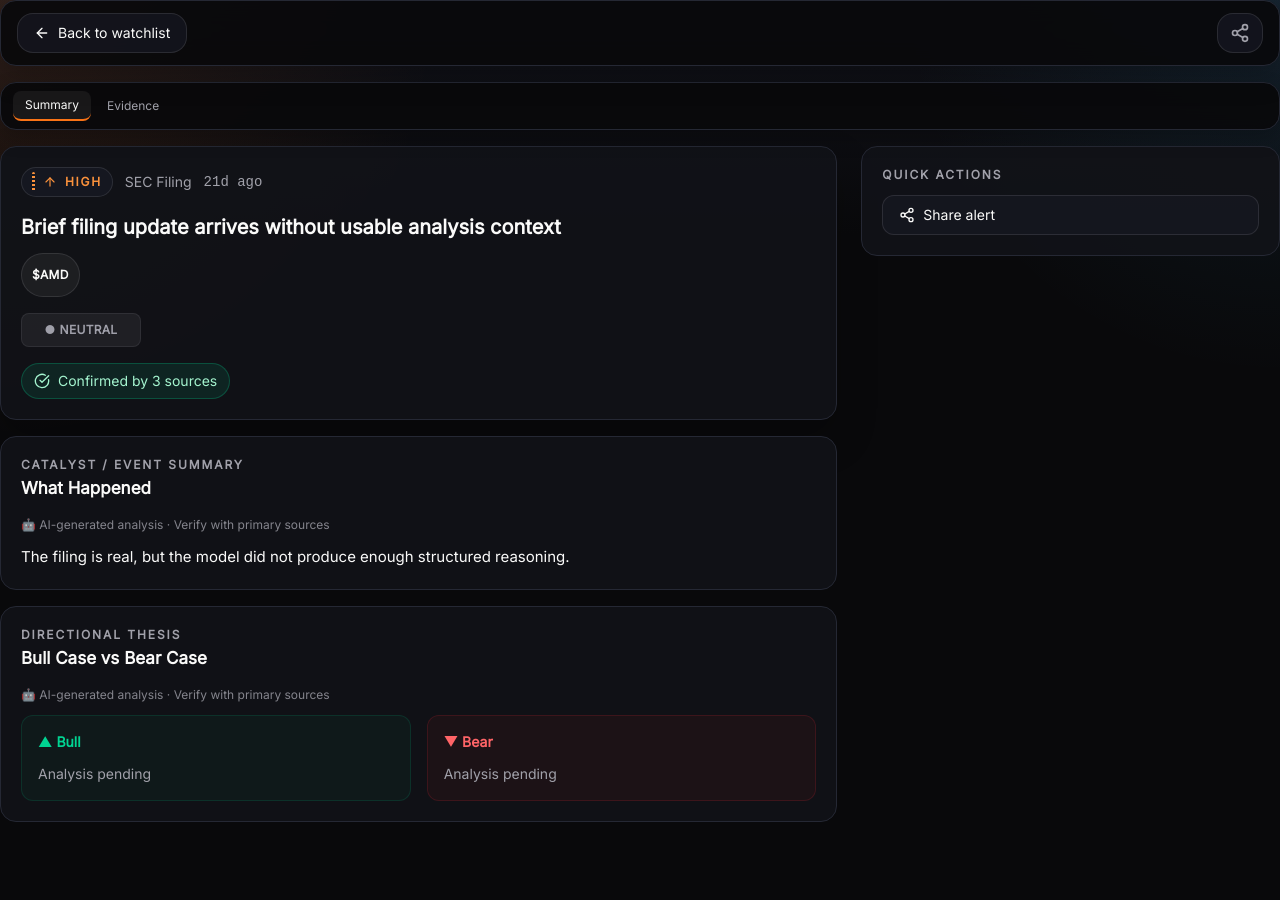
it: EventDetail page › shows evidence fallback copy when source data is unavailable
Click the button "Evidence": (133, 106) [95, 91, 171, 121]
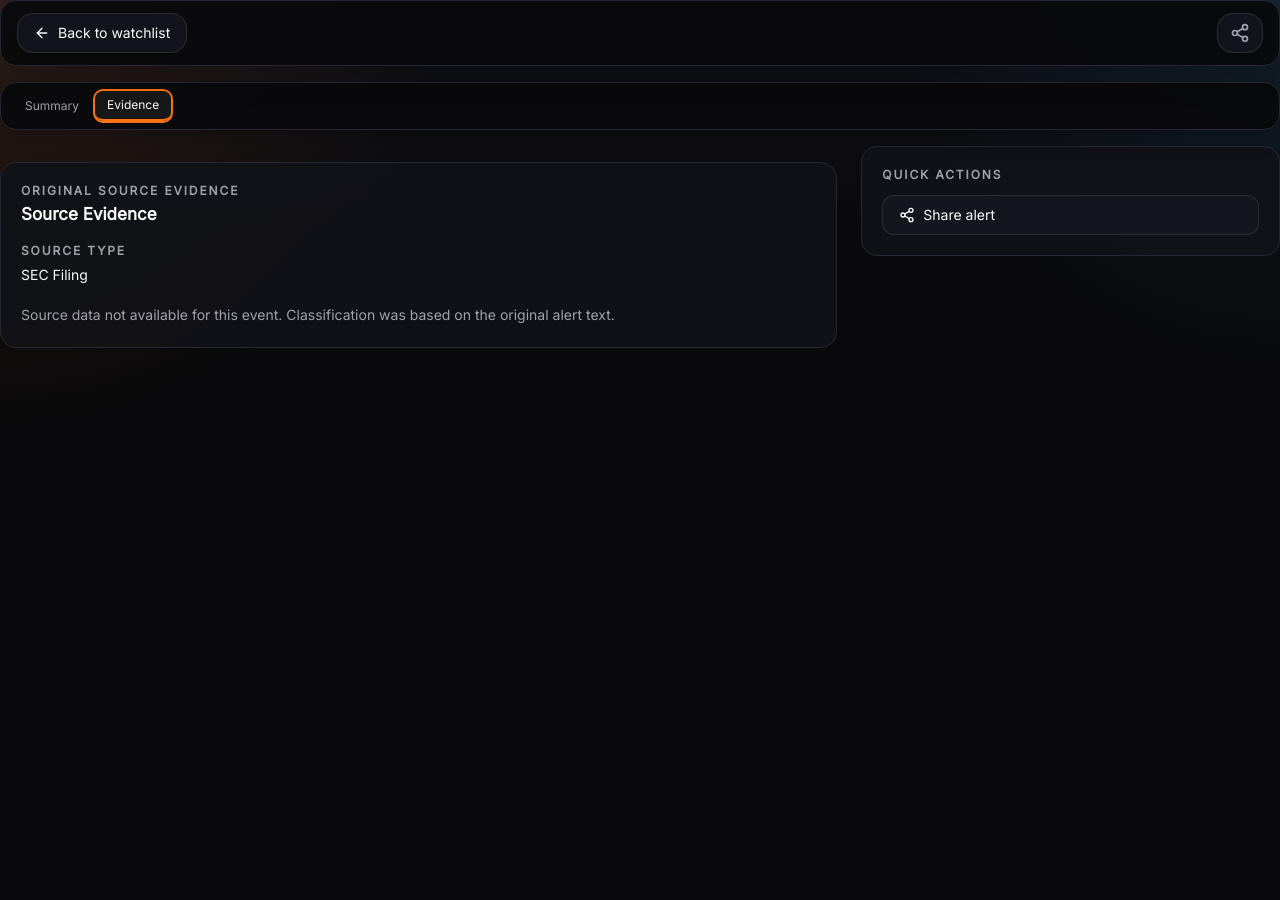
Now the text "source data not available for this event. classification was based on the original alert text." is shown, box [21, 306, 615, 323]
